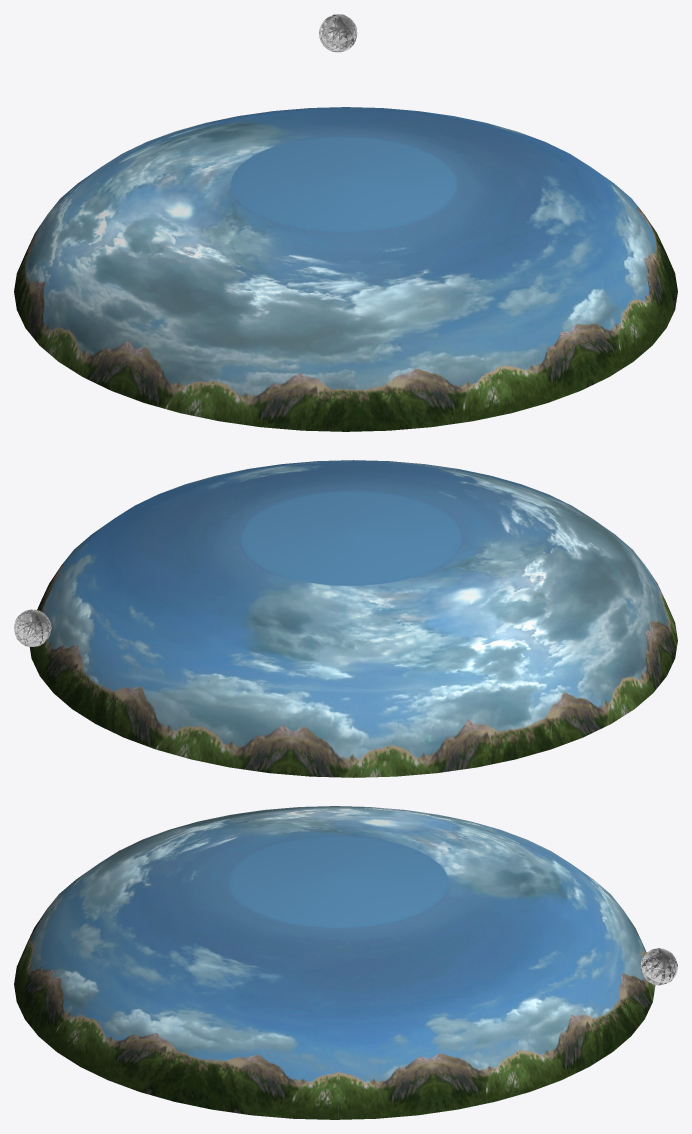
The model's file is skydome.dae.
The picture shows the model from 3 angles, top to bottom: view 1: azimuth 30°, elevation 25°; view 2: azimuth 150°, elevation 25°; view 3: azimuth 270°, elevation 25°; orthographic projection. The views are drawn at different scales.
Parts seen in each view (by area): view 1: Skydome_Morning_001; view 2: Skydome_Morning_001; view 3: Skydome_Morning_001.
Boxes of the visible parts, <box> form: Skydome_Morning_001: <box>14,107,677,431</box>; Skydome_Morning_001: <box>29,460,677,777</box>; Skydome_Morning_001: <box>14,806,655,1119</box>.
Size of the model in its own units: 1751 by 1812 by 332.
2 materials, 2 textured.
